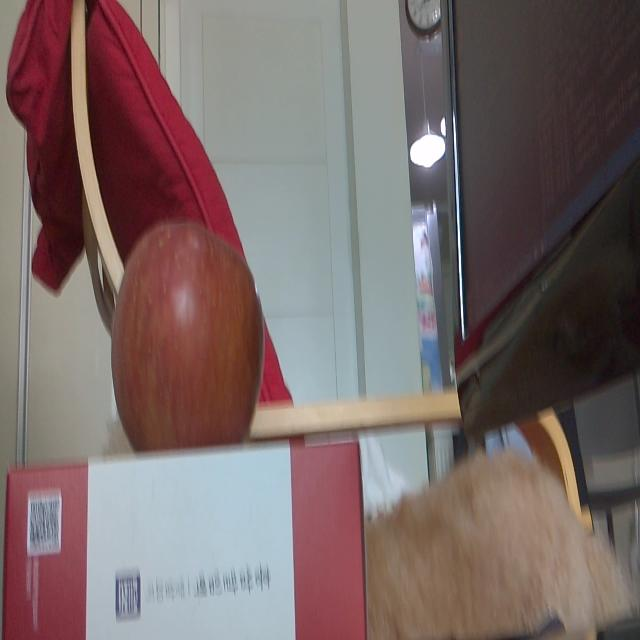apple: (112, 222, 262, 452)
